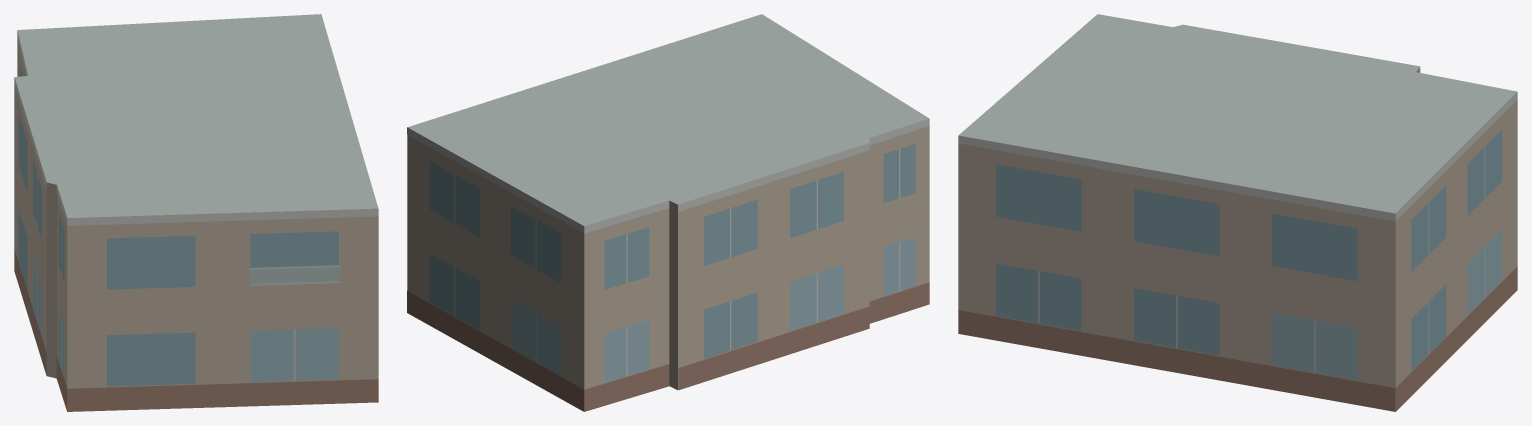
Rendered from survey-upis-32533326.glb.
3 views of the same model, side by side, from view 1: azimuth 30°, elevation 25°; view 2: azimuth 150°, elevation 25°; view 3: azimuth 270°, elevation 25° (orthographic). The views are drawn at different scales.
Parts seen in each view (by area): view 1: survey-upis-32533326.tmp; view 2: survey-upis-32533326.tmp; view 3: survey-upis-32533326.tmp.
Part boxes in pixels (left/top/right/bottom): survey-upis-32533326.tmp: left=14, top=14, right=378, bottom=411; survey-upis-32533326.tmp: left=407, top=14, right=929, bottom=411; survey-upis-32533326.tmp: left=958, top=14, right=1517, bottom=411.
Bounding box in the file's own units: 13.18 × 6.1 × 15.6.
